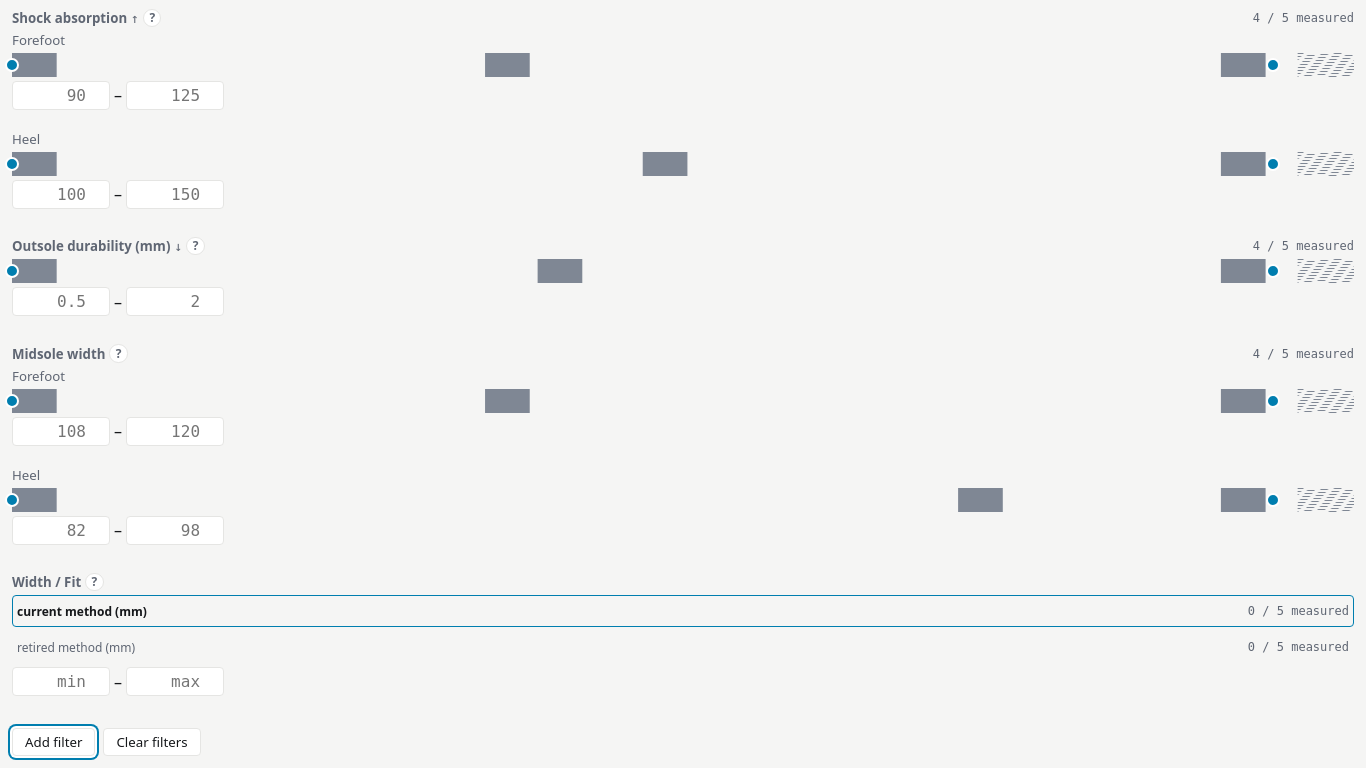
Test: FilterSidebar filter set management › warns when Add filter currently offers a retired generation
This screenshot has width=1366, height=768.
(page scrolled)
Click the button "Add filter".
click(54, 742)  # box [12,728,95,756]
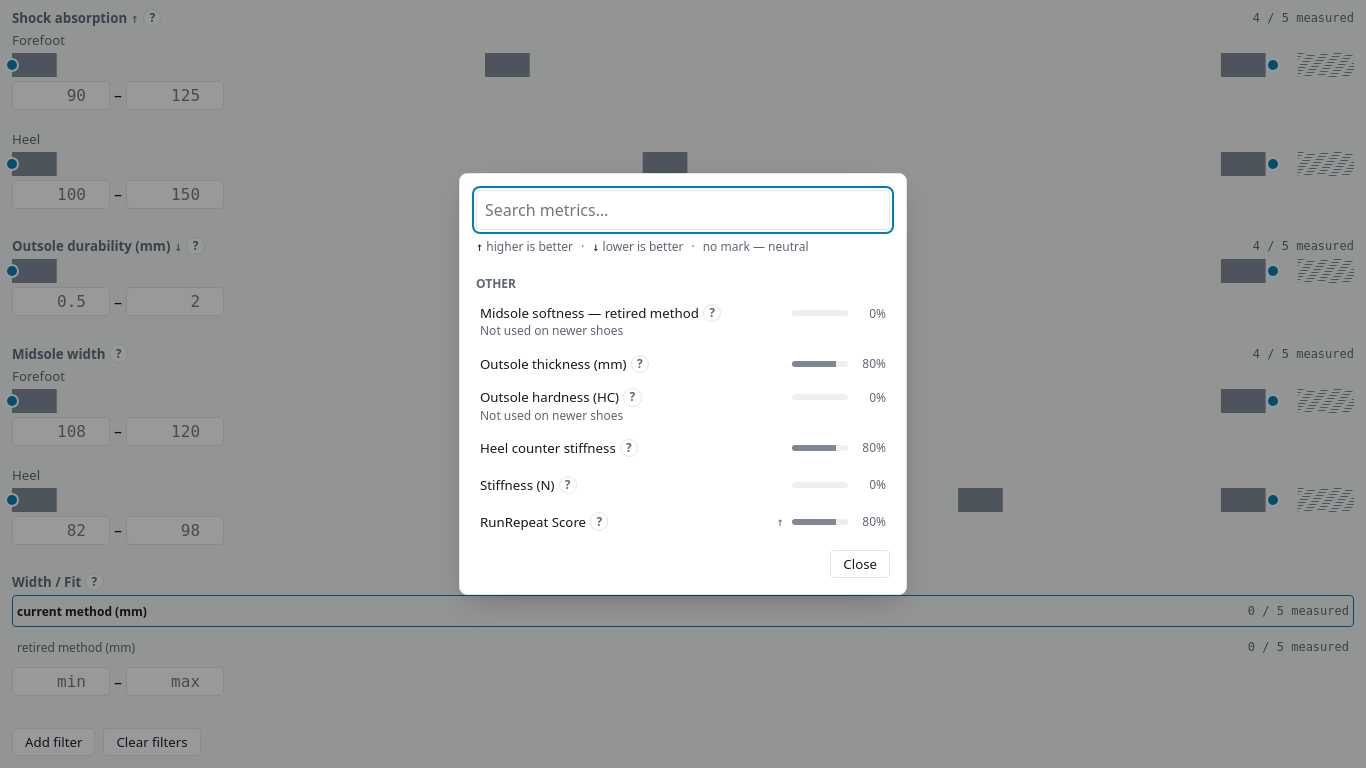
Result: the button named "Add filter: Midsole softness — retired method. Not used on newer shoes. 0% measured" is shown at [476,300,890,343]
